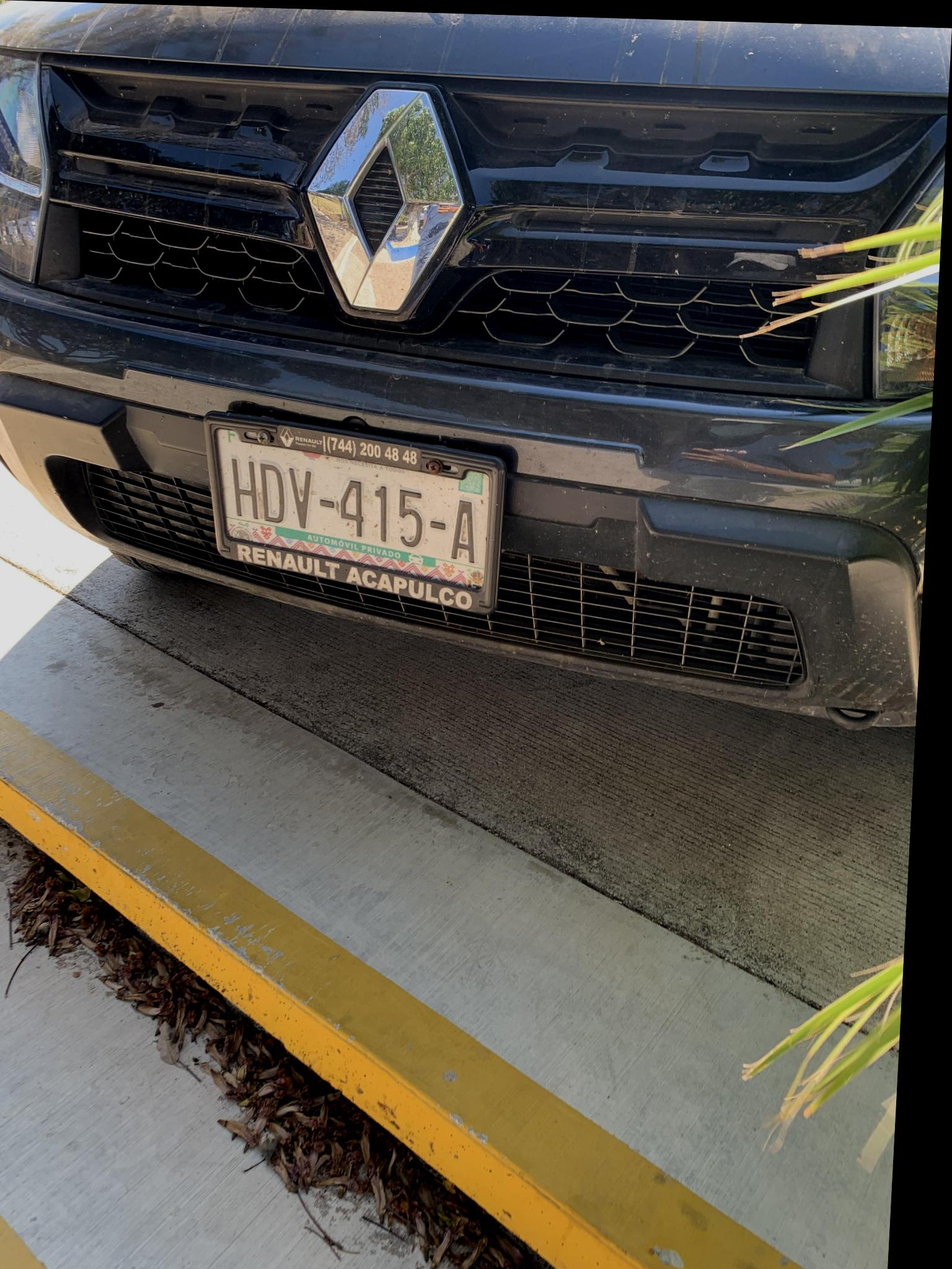License_Plate: (168, 396, 536, 649)
